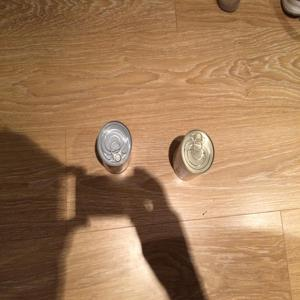metal: (83, 112, 147, 190), (170, 125, 218, 191)
